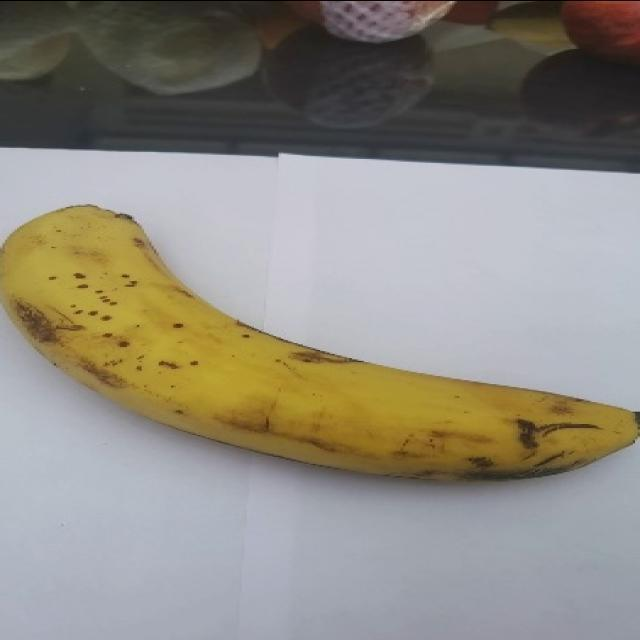Apple: (560, 0, 639, 63)
Banana: (0, 202, 639, 481)
